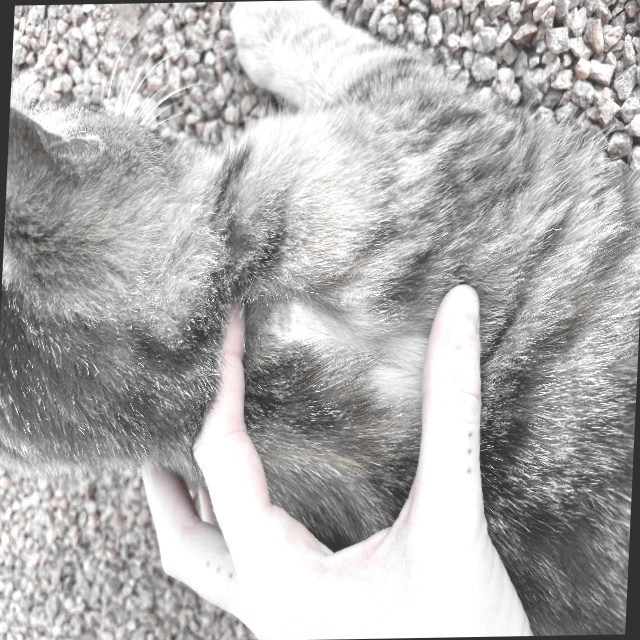hairloss: (244, 281, 435, 405)
